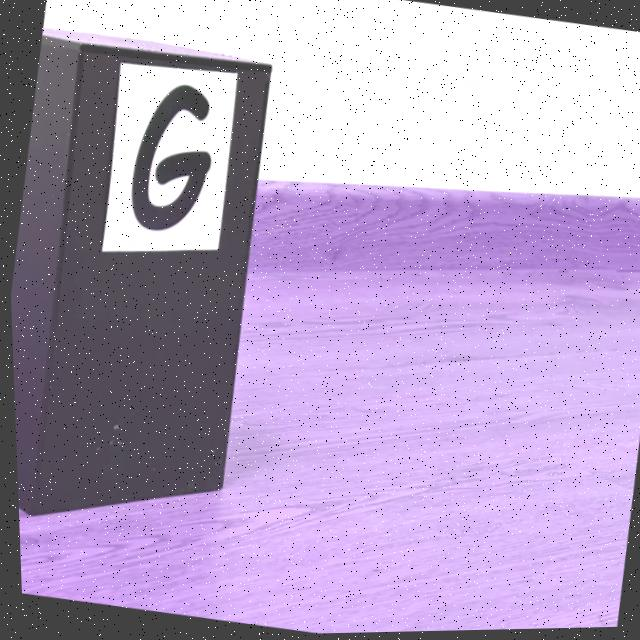G: (130, 85, 210, 231)
